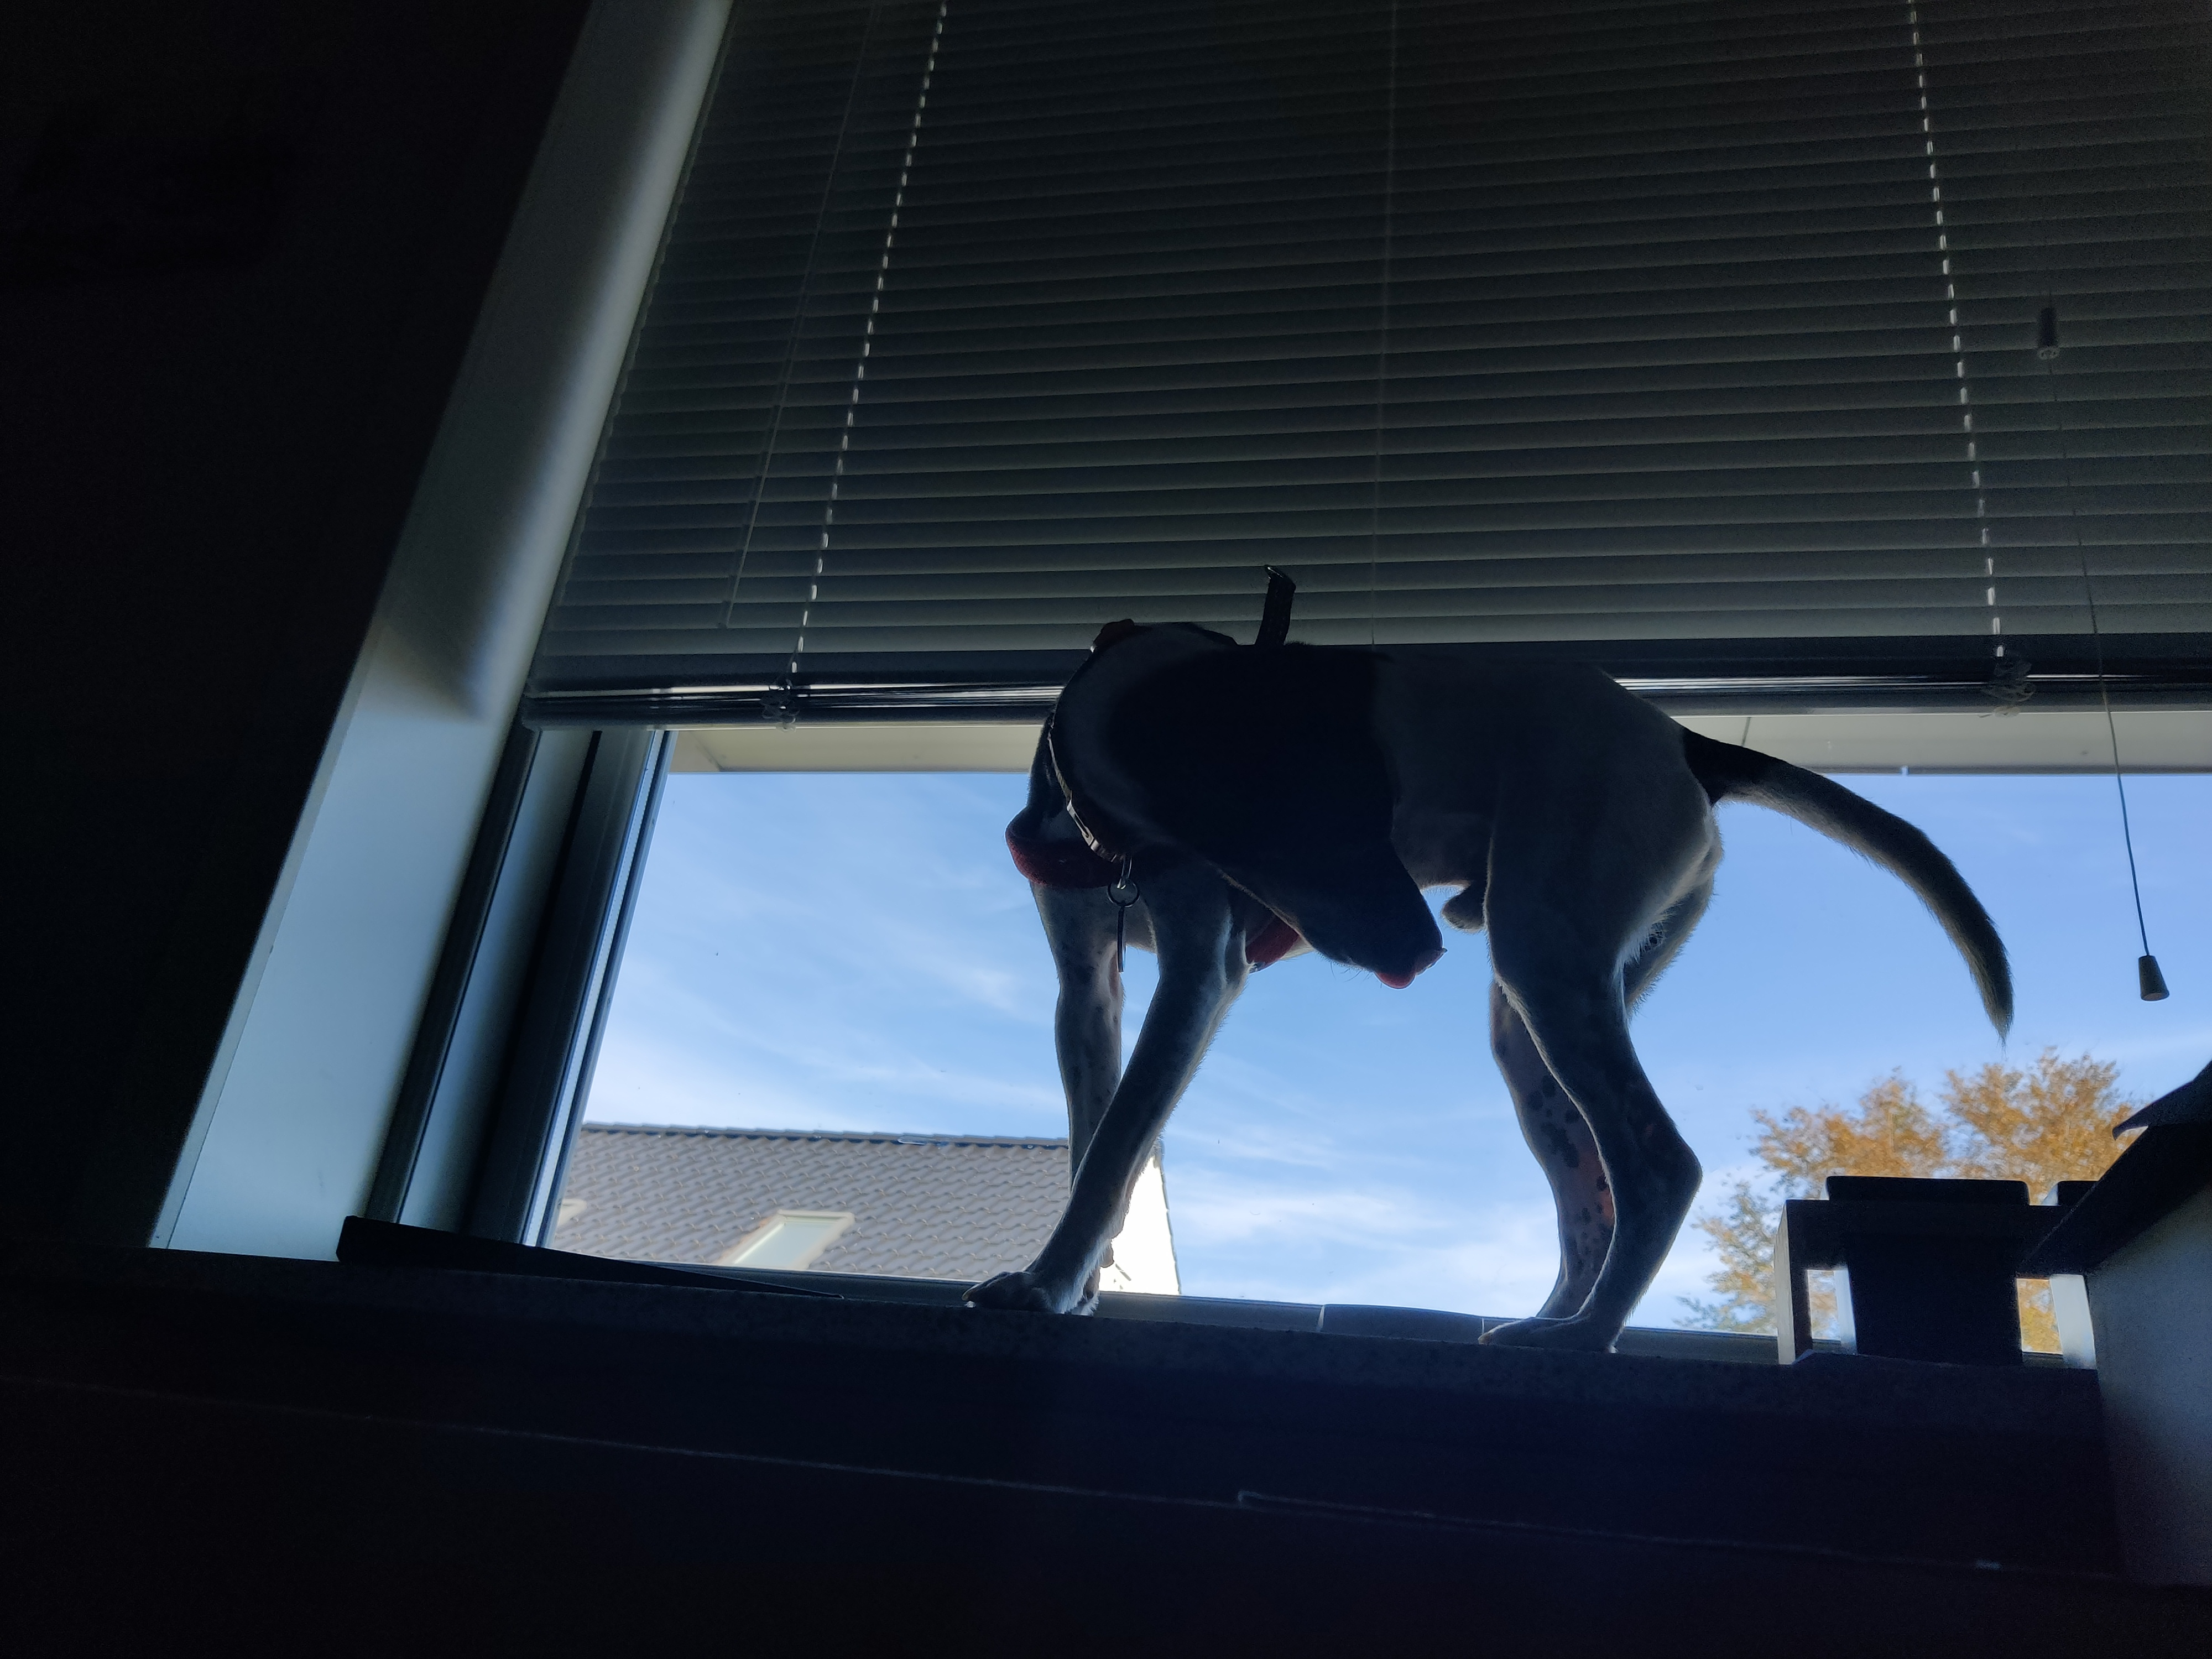Dog: (948, 610, 2019, 1364)
